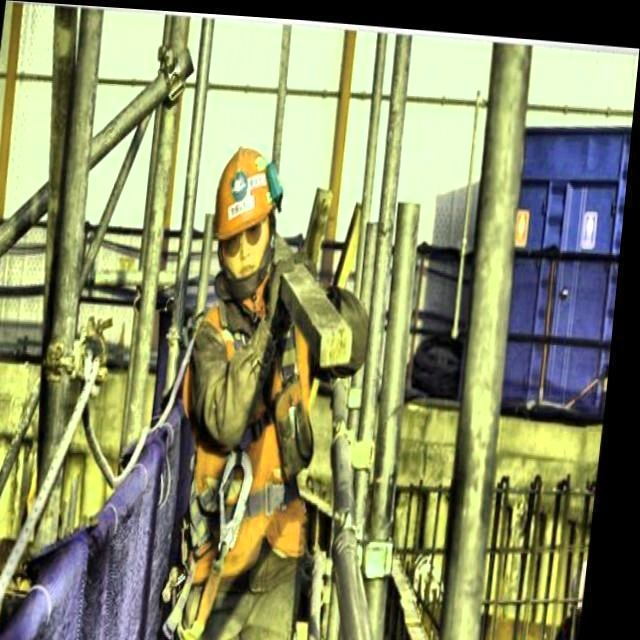safety belt: (190, 291, 352, 558)
